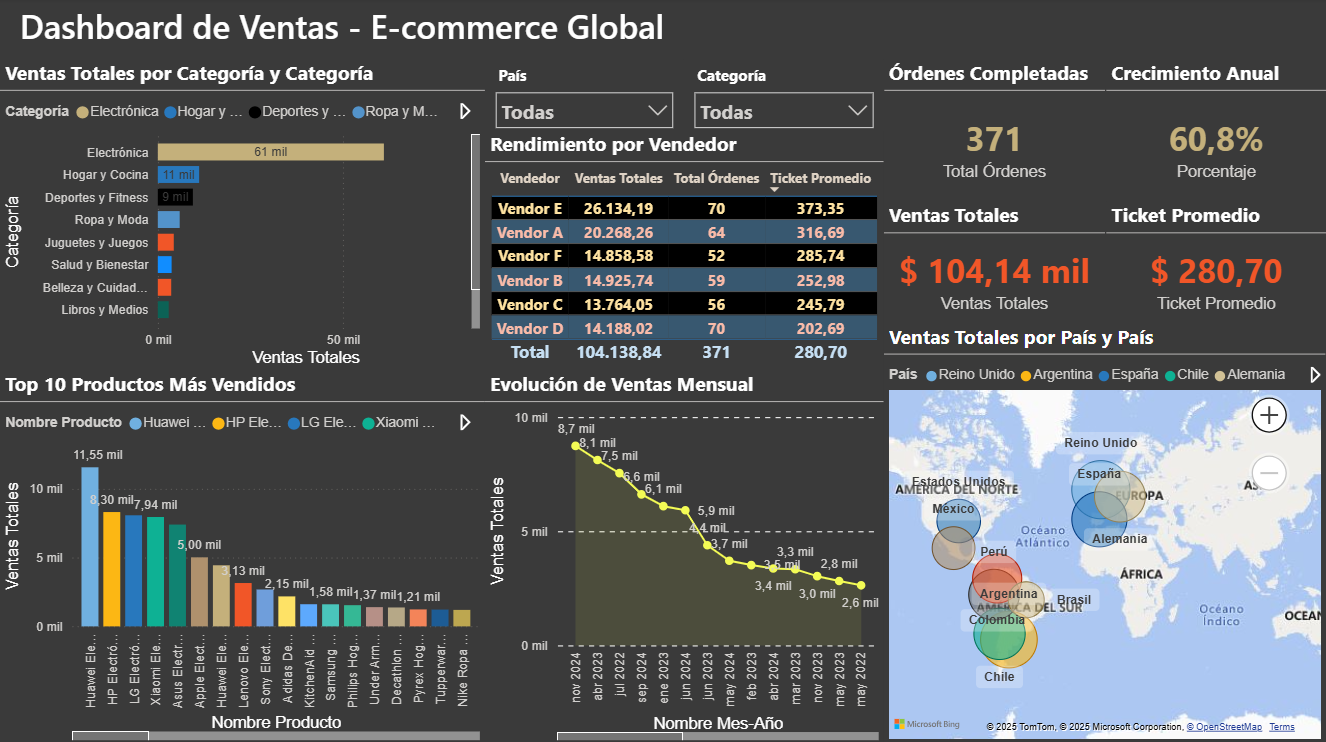

This screenshot's page, from the dashboard's own definition file:
{"tool":"powerbi","page":{"name":"Página 1","canvas":[1280,720],"ordinal":0},"visuals":[{"type":"card","title":"Ventas Totales","fields":{"Values":["_Medidas.Ventas Totales"]},"box":[853.5,196.9,214,117.4],"z":0},{"type":"card","title":"Órdenes Completadas","fields":{"Values":["_Medidas.Total Órdenes"]},"box":[853.5,58.7,214,138.2],"z":1000},{"type":"card","title":"Ticket Promedio","fields":{"Values":["_Medidas.Ticket Promedio"]},"box":[1067.5,196.9,212.8,117.4],"z":2000},{"type":"card","title":"Crecimiento Anual","fields":{"Values":["_Medidas.Porcentaje"]},"box":[1067.5,58.7,212.8,138.2],"z":3000},{"type":"slicer","fields":{"Values":["Productos.Categoría"]},"box":[660.3,58.7,193.2,69.7],"z":4000},{"type":"slicer","fields":{"Values":["Clientes.País"]},"box":[468.3,58.7,192,69.7],"z":5000},{"type":"map","fields":{"Category":["Clientes.País"],"Size":["_Medidas.Ventas Totales"],"Series":["Clientes.País"]},"box":[853.5,314.3,426.8,406],"z":6000},{"type":"lineChart","title":"Evolución de Ventas Mensual","fields":{"Category":["Calendario.Nombre Mes-Año"],"Y":["_Medidas.Ventas Totales"]},"box":[468.3,359.5,385.2,360.7],"z":7000},{"type":"barChart","fields":{"Category":["Productos.Categoría"],"Y":["_Medidas.Ventas Totales"],"Series":["Productos.Categoría"]},"box":[0,58.7,468.3,300.8],"z":8000},{"type":"columnChart","title":"Top 10 Productos Más Vendidos","fields":{"Category":["Productos.Nombre Producto"],"Y":["_Medidas.Ventas Totales"],"Series":["Productos.Nombre Producto"]},"box":[0,359.5,468.3,360.7],"z":9000},{"type":"tableEx","title":"Rendimiento por Vendedor","fields":{"Values":["Ventas.Vendedor","_Medidas.Ventas Totales","_Medidas.Total Órdenes","_Medidas.Ticket Promedio"]},"box":[468.3,128.4,385.2,231.1],"z":10000},{"type":"textbox","box":[0,0,660.3,58.7],"z":11000}]}

Visuals, with their boxes in screenshot pixels (x1, y1, x2, y2), scaled from the page's 1280x720 canvas onto the 1326x742 screenshot:
"Ventas Totales" card: {"left": 884, "top": 203, "right": 1106, "bottom": 324}
"Órdenes Completadas" card: {"left": 884, "top": 60, "right": 1106, "bottom": 203}
"Ticket Promedio" card: {"left": 1106, "top": 203, "right": 1325, "bottom": 324}
"Crecimiento Anual" card: {"left": 1106, "top": 60, "right": 1325, "bottom": 203}
slicer - Productos.Categoría: {"left": 684, "top": 60, "right": 884, "bottom": 132}
slicer - Clientes.País: {"left": 485, "top": 60, "right": 684, "bottom": 132}
map - Clientes.País x _Medidas.Ventas Totales: {"left": 884, "top": 324, "right": 1325, "bottom": 741}
"Evolución de Ventas Mensual" lineChart: {"left": 485, "top": 370, "right": 884, "bottom": 741}
barChart - Productos.Categoría x _Medidas.Ventas Totales: {"left": 0, "top": 60, "right": 485, "bottom": 370}
"Top 10 Productos Más Vendidos" columnChart: {"left": 0, "top": 370, "right": 485, "bottom": 741}
"Rendimiento por Vendedor" tableEx: {"left": 485, "top": 132, "right": 884, "bottom": 370}
textbox: {"left": 0, "top": 0, "right": 684, "bottom": 60}
